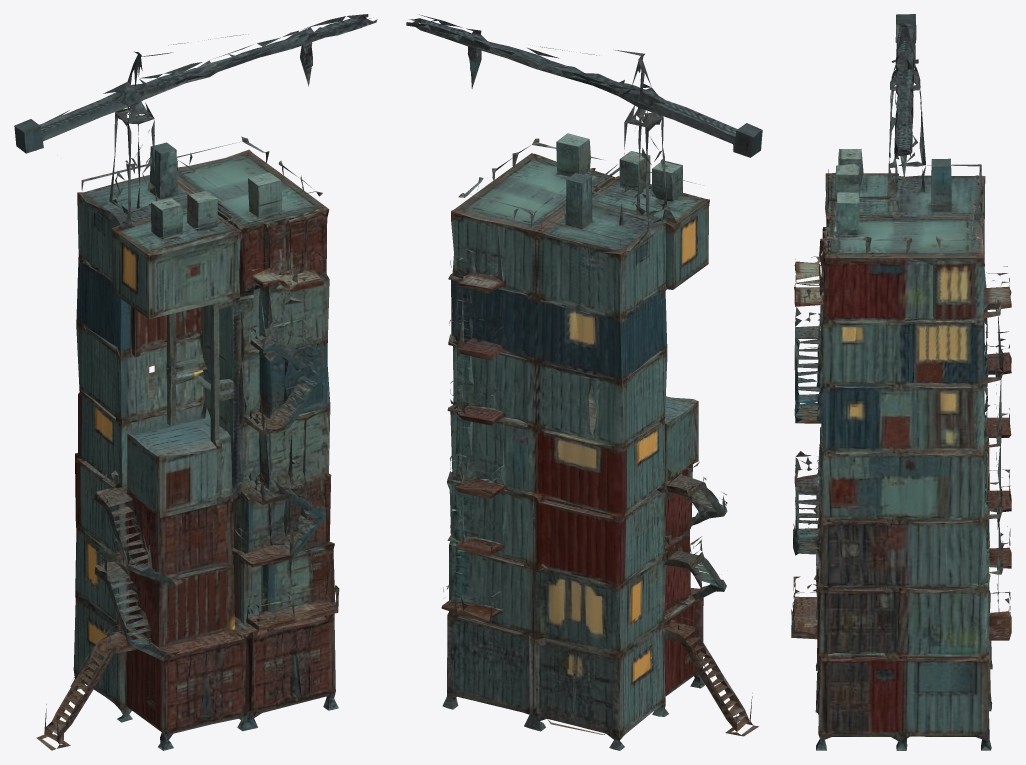
Rendered from crane_stack.glb.
3 renders of one model, left to right at view 1: azimuth 30°, elevation 25°; view 2: azimuth 150°, elevation 25°; view 3: azimuth 270°, elevation 25°, orthographic.
Parts seen in each view (by area): view 1: crane_stack; view 2: crane_stack; view 3: crane_stack.
Part boxes in pixels (bbox=[...]): crane_stack: bbox=[14, 14, 377, 750]; crane_stack: bbox=[406, 14, 762, 750]; crane_stack: bbox=[791, 14, 1011, 750].
Bounding box in the file's own units: 1.05 × 1.86 × 0.5707.
Materials: 1 (1 with a texture image).
